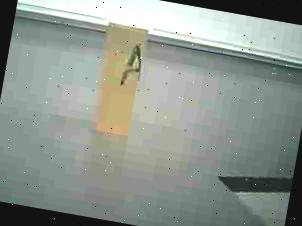Bottle A: (80, 4, 166, 152)
